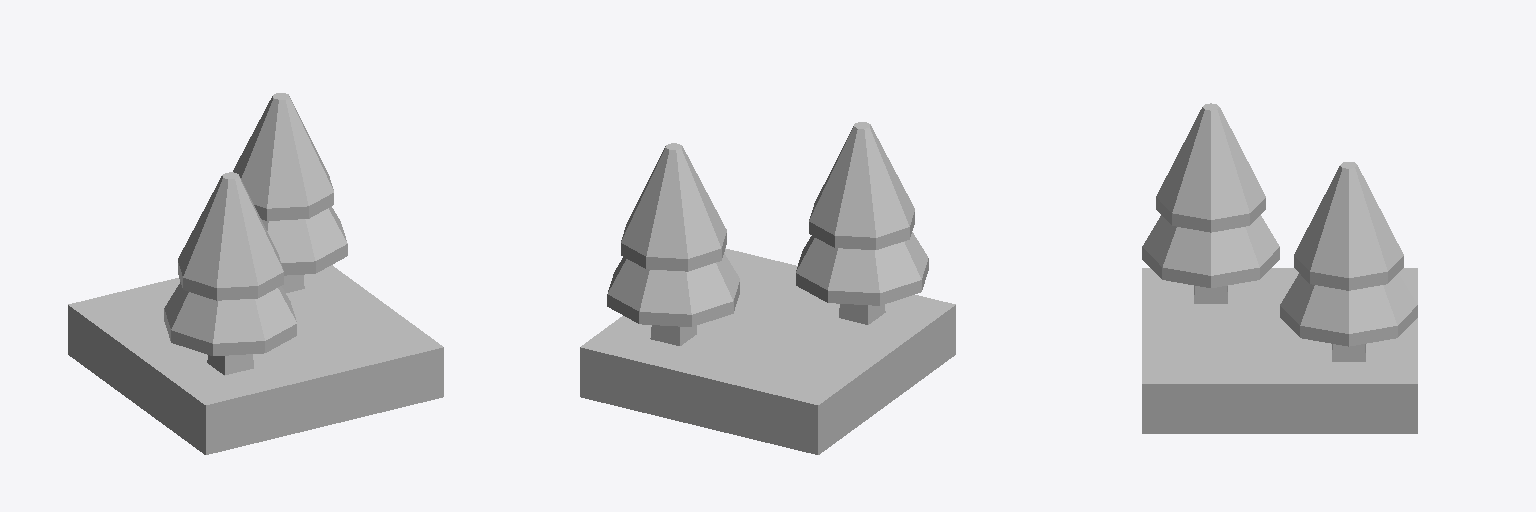
File: TreeDouble.obj
3 views of the same model, side by side, from view 1: azimuth 30°, elevation 25°; view 2: azimuth 150°, elevation 25°; view 3: azimuth 270°, elevation 25° (orthographic).
Parts seen in each view (by area): view 1: TreeDouble, tree; view 2: TreeDouble, tree; view 3: TreeDouble, tree.
Boxes of the visible parts, x1,y1,x2,y2 form: TreeDouble: [68, 265, 443, 454]; tree: [164, 93, 347, 375]; TreeDouble: [580, 248, 955, 454]; tree: [607, 122, 928, 345]; TreeDouble: [1142, 268, 1417, 433]; tree: [1142, 103, 1417, 361].
Size of the model in its own units: 1 by 0.96 by 1.